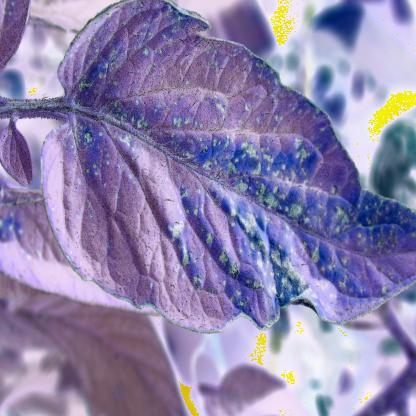Tomato leaf late blight: (37, 8, 414, 324)
